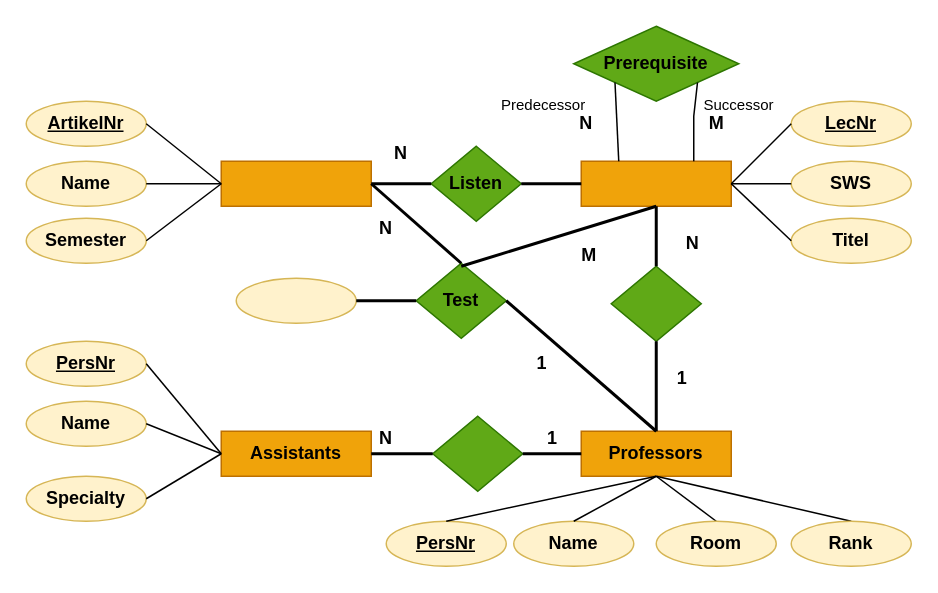
Some shapes in this 938 by 593 pixel diagram are drawn without their labels. The shapes that lost their labels are listed below. From the top down, each one's box as (x1, y1, x2, y2) in pixels, then its label:
(220, 160, 371, 206): Students
(580, 160, 731, 206): Lectures
(235, 277, 356, 323): Note
(610, 265, 701, 341): Read
(431, 415, 523, 491): WorkFor
